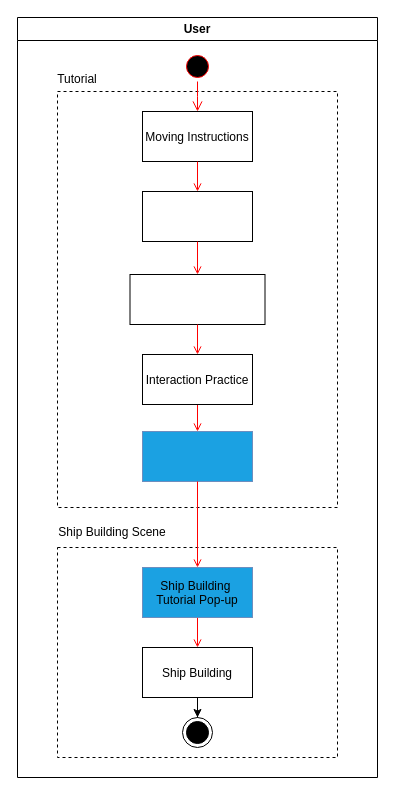
The diagram is 395 pixels wide and 795 high, and some of its shapes have lost their labels. Each missing label, with the centre of its shape:
Interaction Instructions: the point at 197,299
Moving Practice: the point at 197,216
Selection Screen: the point at 197,456
